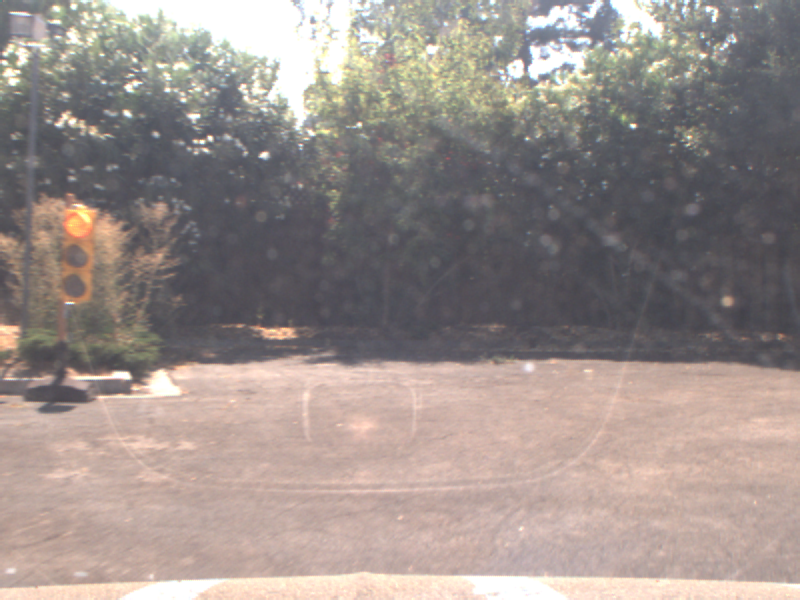red: (59, 204, 93, 303)
